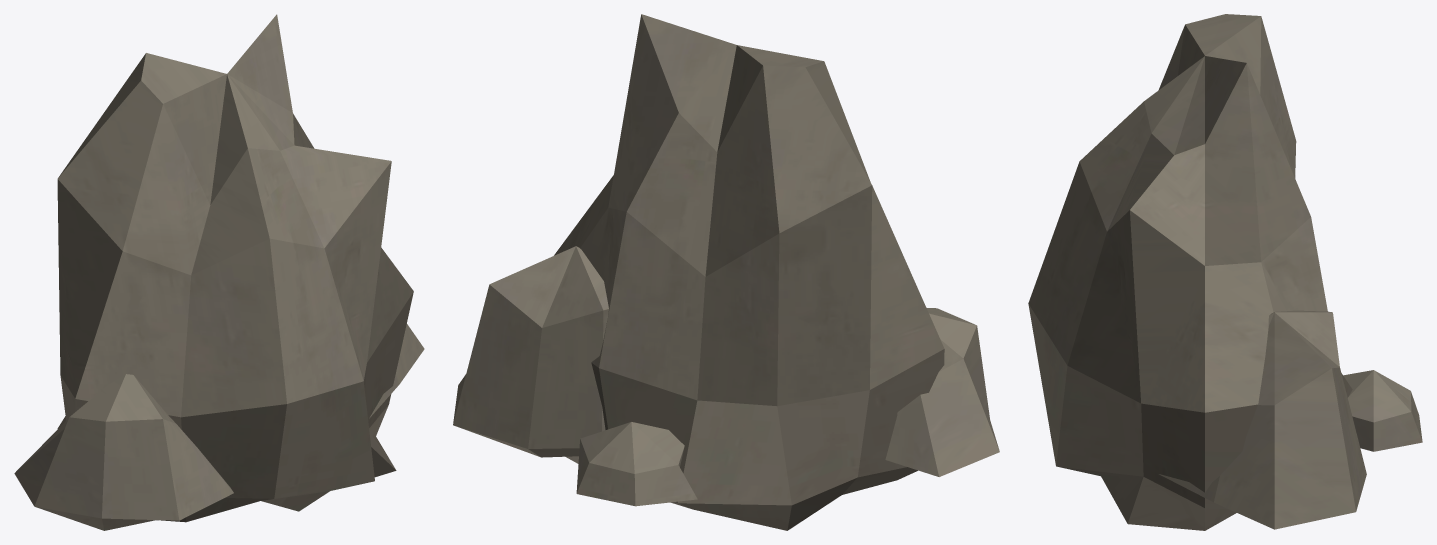
Rendered from rock_large_02.glb.
The picture shows the model from 3 angles, left to right: view 1: azimuth 30°, elevation 25°; view 2: azimuth 150°, elevation 25°; view 3: azimuth 270°, elevation 25°; orthographic projection. The views are drawn at different scales.
Visible parts, largest first — view 1: rock_large_02; view 2: rock_large_02; view 3: rock_large_02.
Boxes of the visible parts, x1,y1,x2,y2 form: rock_large_02: [14, 14, 424, 530]; rock_large_02: [453, 14, 999, 530]; rock_large_02: [1028, 14, 1422, 530].
Bounding box in the file's own units: 2.66 × 2.51 × 1.99.
3 materials, 3 textured.
